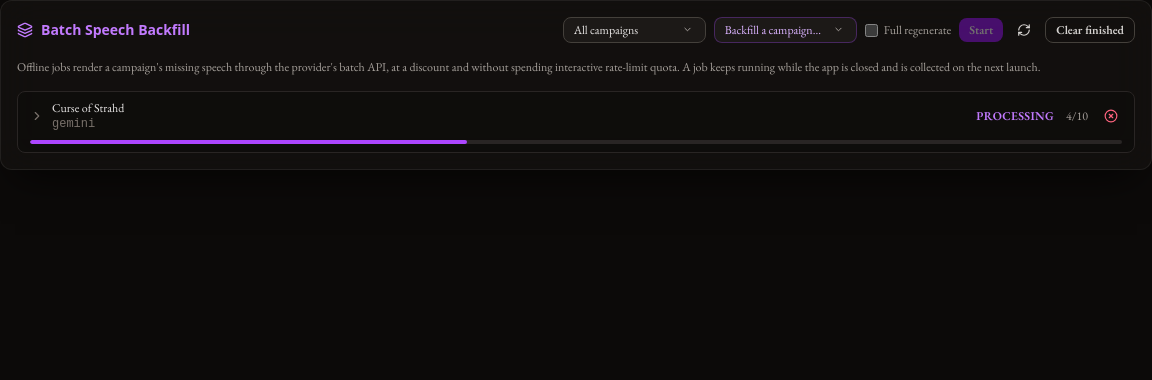
Test: TTSBatchPanel › empty states › displays "none" for failed keys in expanded details when none failed
What coordinates should you click on to do the following:
click the button titled "Show job details"
I would click on:
 (77, 116)
Its box is [30,100,124,132].
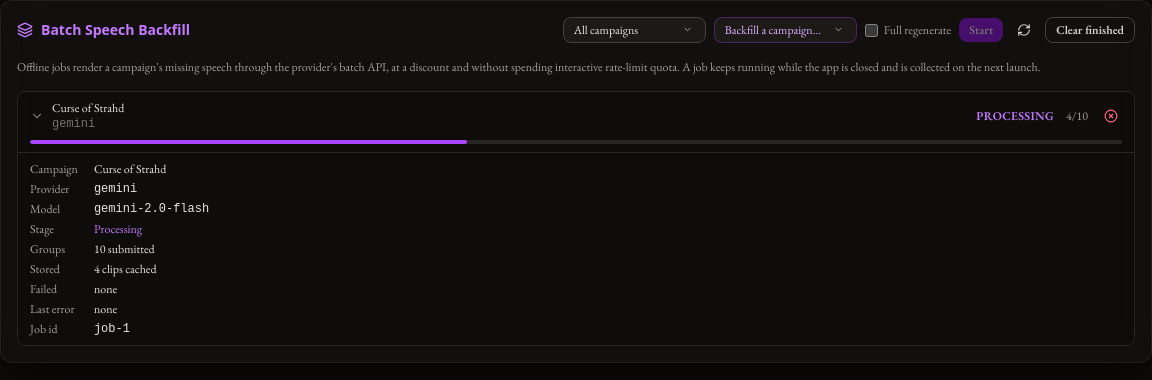
Check: the text "4 clips cached" is shown, box [94,261,156,277]
Check: the text "10 submitted" is shown, box [94,241,155,257]
Check: the text "none" is shown 2 times, box [94,281,117,297]; [94,301,117,317]
